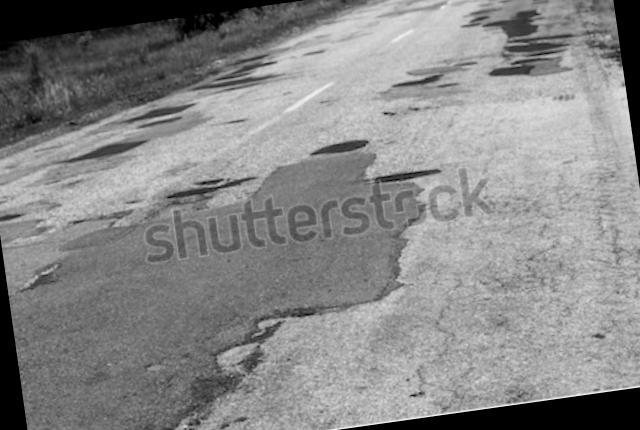Pothole: (289, 111, 462, 206), (472, 0, 597, 91), (166, 161, 268, 209), (384, 60, 460, 110)
